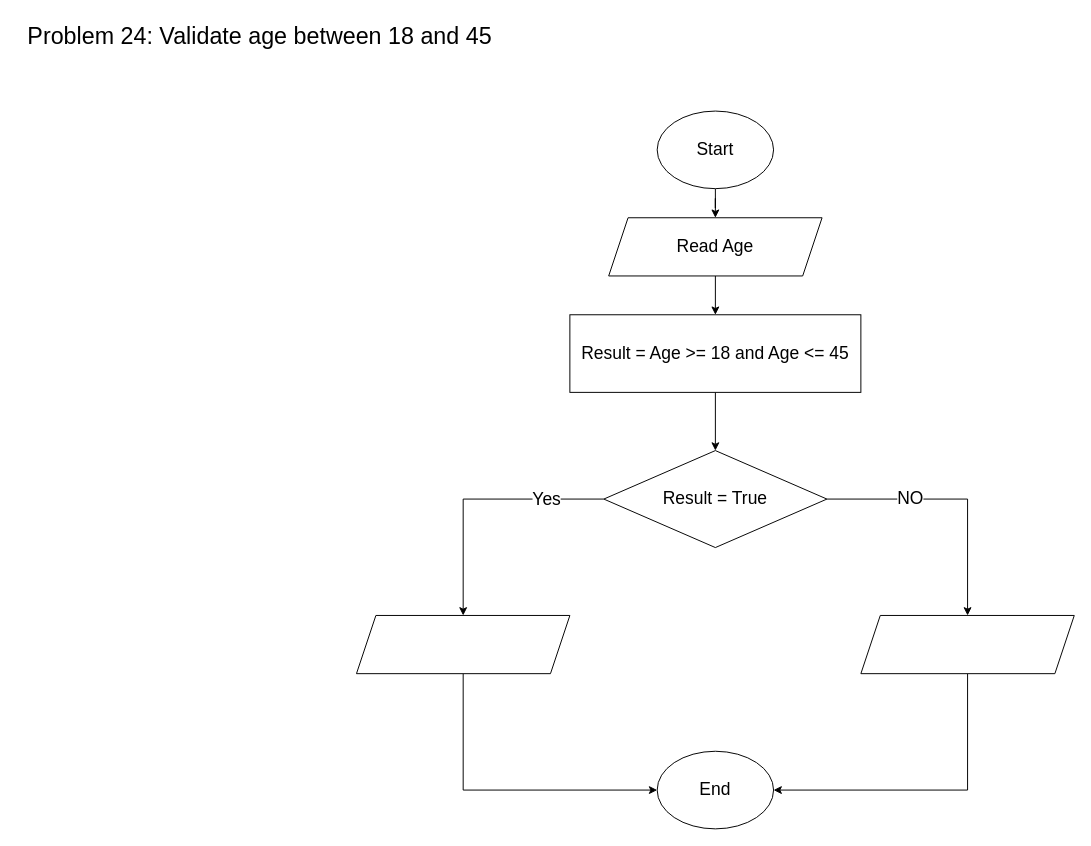
This 1091x846 diagram has some shape labels left out. The centre of each missing label's shape, as x and y in pixels:
Print invalid age: point 967,644
Print valid age: point 463,644
